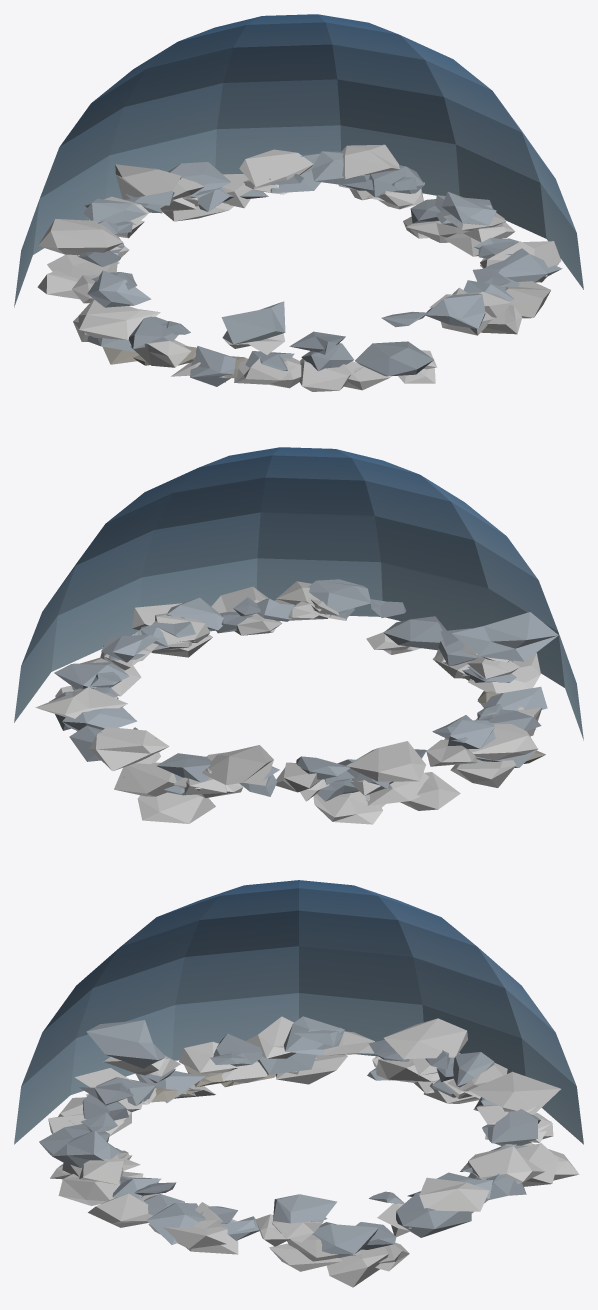
File: sky-overcast.glb
The picture shows the model from 3 angles, top to bottom: view 1: azimuth 30°, elevation 25°; view 2: azimuth 150°, elevation 25°; view 3: azimuth 270°, elevation 25°; orthographic projection. The views are drawn at different scales.
Parts seen in each view (by area): view 1: sky_overcast; view 2: sky_overcast; view 3: sky_overcast.
Boxes of the visible parts, x1=… form: sky_overcast: x1=14, y1=14, x2=583, y2=391; sky_overcast: x1=14, y1=447, x2=583, y2=824; sky_overcast: x1=14, y1=880, x2=583, y2=1287.
Size of the model in its own units: 384 by 198 by 374.
